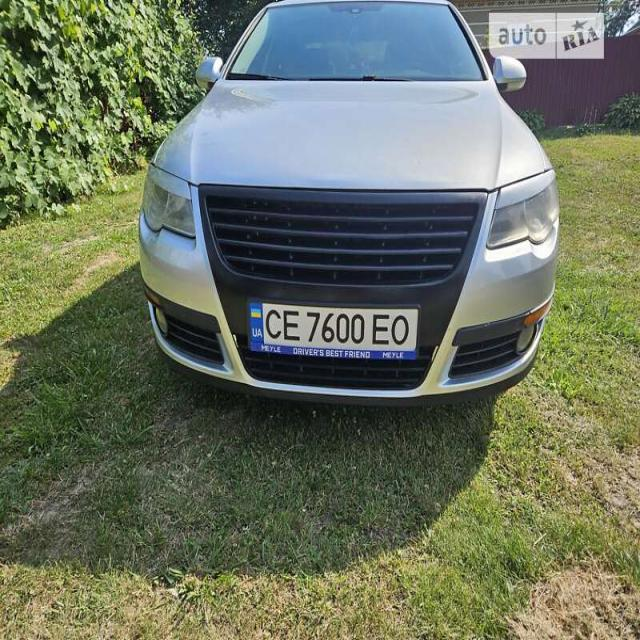plate: (248, 289, 421, 383)
